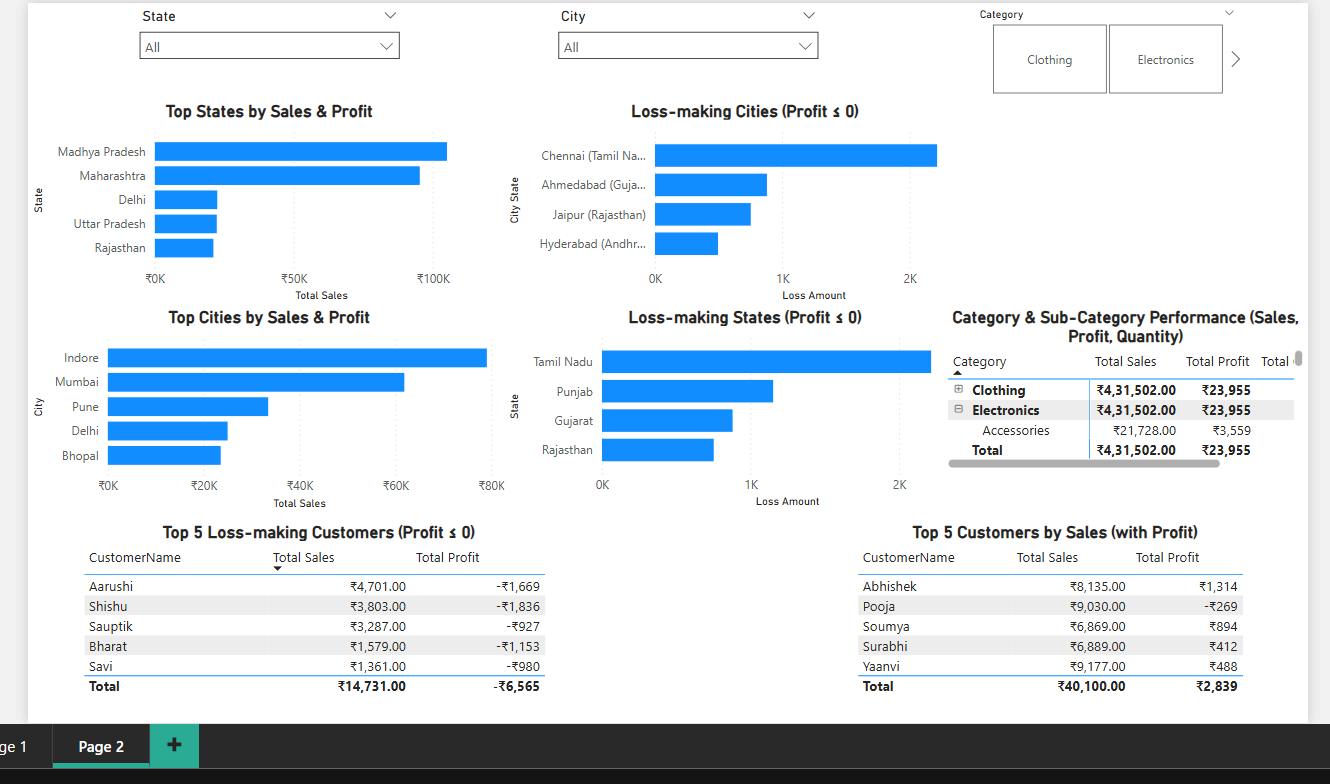

What the dashboard file says about the page in this screenshot:
{"tool":"powerbi","page":{"name":"Page 2","canvas":[1280,720],"ordinal":1},"visuals":[{"type":"slicer","fields":{"Values":["cleaned_List of Orders.State"]},"box":[101.2,0,280,97.5],"z":0},{"type":"slicer","fields":{"Values":["cleaned_List of Orders.City"]},"box":[520,0,280,97.5],"z":1000},{"type":"slicer","fields":{"Values":["cleaned_Sales Target.Category"]},"box":[938.8,0,280,97.5],"z":2000},{"type":"clusteredBarChart","title":"Top States by Sales & Profit","fields":{"Category":["cleaned_List of Orders.State"],"Y":["cleaned_Order Details.Total Sales"]},"box":[0,97.5,482.5,206.2],"z":3000},{"type":"clusteredBarChart","title":"Top Cities by Sales & Profit","fields":{"Category":["cleaned_List of Orders.City"],"Y":["cleaned_Order Details.Total Sales"]},"box":[0,303.8,482.5,207.5],"z":4000},{"type":"clusteredBarChart","title":"Loss-making States (Profit ≤ 0)","fields":{"Y":["cleaned_Order Details.Loss Amount"],"Category":["cleaned_List of Orders.State"]},"box":[457.7,96.9,481,206.1],"z":5000},{"type":"clusteredBarChart","title":"Loss-making Cities (Profit ≤ 0)","fields":{"Category":["cleaned_List of Orders.City State"],"Y":["cleaned_Order Details.Loss Amount"]},"box":[457.7,304.3,481,207.4],"z":6000},{"type":"tableEx","title":"Top 5 Customers by Sales (with Profit)","fields":{"Values":["cleaned_List of Orders.CustomerName","cleaned_Order Details.Total Sales","cleaned_Order Details.Total Profit"]},"box":[823.8,518.8,406.2,201.2],"z":7000},{"type":"tableEx","title":"Top 5 Loss-making Customers (Profit ≤ 0)","fields":{"Values":["cleaned_List of Orders.CustomerName","cleaned_Order Details.Total Sales","cleaned_Order Details.Total Profit"]},"box":[50,518.8,481.2,201.2],"z":8000},{"type":"pivotTable","title":"Category & Sub-Category Performance (Sales, Profit, Quantity)","fields":{"Rows":["cleaned_Sales Target.Category","cleaned_Order Details.Sub-Category"],"Values":["cleaned_Order Details.Total Sales","cleaned_Order Details.Total Profit","cleaned_Order Details.Total Quantity"]},"box":[915,303.8,365,166.2],"z":9000}]}

Visuals, with their boxes on the page's 1280x720 design canvas (x1, y1, x2, y2). These are canvas units, not pixel positions in the 1330x784 screenshot, which may show the page scaled, cropped or inside an application window:
slicer - cleaned_List of Orders.State: bbox=[101, 0, 381, 98]
slicer - cleaned_List of Orders.City: bbox=[520, 0, 800, 98]
slicer - cleaned_Sales Target.Category: bbox=[939, 0, 1219, 98]
"Top States by Sales & Profit" clusteredBarChart: bbox=[0, 98, 482, 304]
"Top Cities by Sales & Profit" clusteredBarChart: bbox=[0, 304, 482, 511]
"Loss-making States (Profit ≤ 0)" clusteredBarChart: bbox=[458, 97, 939, 303]
"Loss-making Cities (Profit ≤ 0)" clusteredBarChart: bbox=[458, 304, 939, 512]
"Top 5 Customers by Sales (with Profit)" tableEx: bbox=[824, 519, 1230, 720]
"Top 5 Loss-making Customers (Profit ≤ 0)" tableEx: bbox=[50, 519, 531, 720]
"Category & Sub-Category Performance (Sales, Profit, Quantity)" pivotTable: bbox=[915, 304, 1280, 470]
